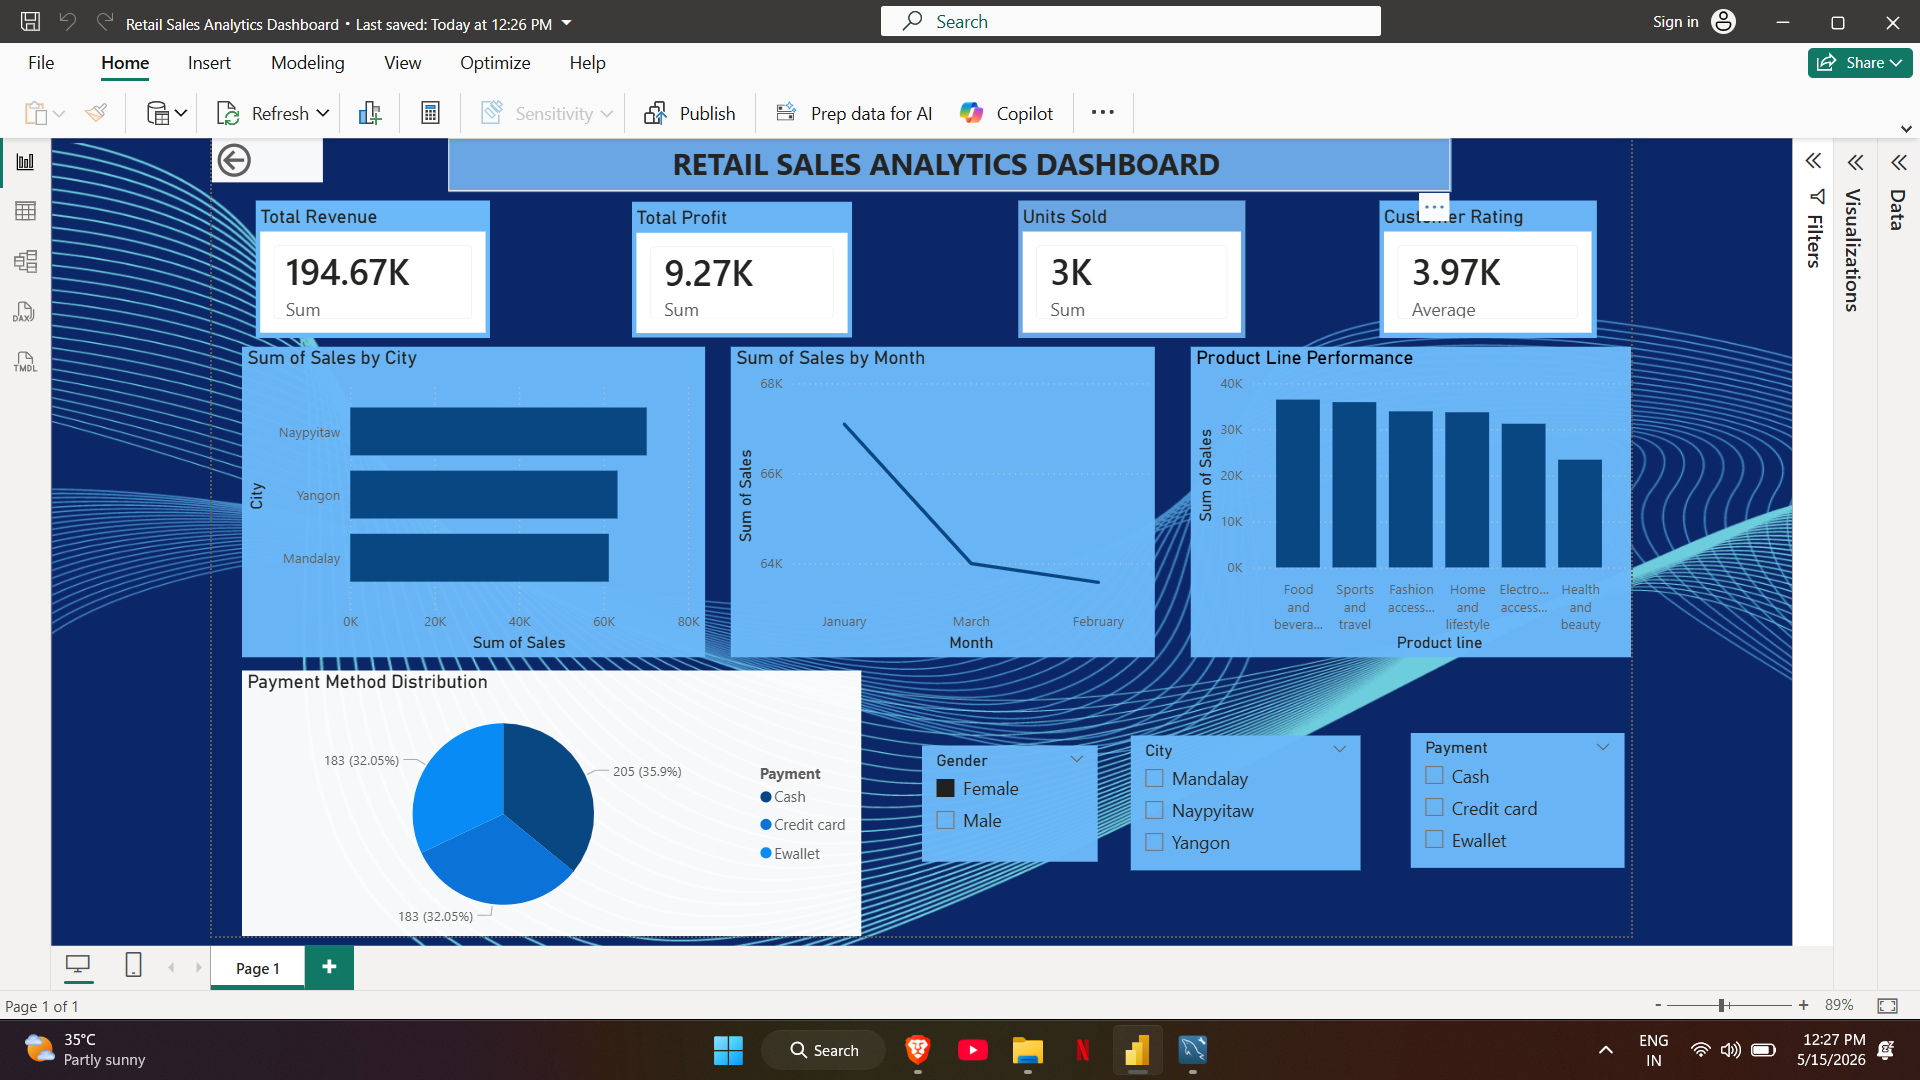

Layout of this report page (visuals, bound fields, positions):
{"tool":"powerbi","page":{"name":"Page 1","canvas":[1280,720],"ordinal":0},"visuals":[{"type":"cardVisual","title":"Total Revenue","fields":{"Data":["Sum(clean_sales.Sales)"]},"box":[40,56.2,211.2,123.8],"z":0},{"type":"actionButton","box":[0,0,100,40],"z":1000},{"type":"clusteredBarChart","fields":{"Category":["clean_sales.City"],"Y":["Sum(clean_sales.Sales)"]},"box":[27.5,188.8,417.5,280],"z":2000},{"type":"clusteredColumnChart","title":"Product Line Performance","fields":{"Category":["clean_sales.Product line"],"Y":["Sum(clean_sales.Sales)"]},"box":[882.5,188.8,397.5,280],"z":3000},{"type":"pieChart","title":"Payment Method Distribution","fields":{"Category":["clean_sales.Payment"],"Y":["CountNonNull(clean_sales.Payment)"]},"box":[27.5,480,558.8,240],"z":4000},{"type":"lineChart","fields":{"Category":["clean_sales.Month"],"Y":["Sum(clean_sales.Sales)"]},"box":[467.5,188.8,382.5,280],"z":5000},{"type":"slicer","fields":{"Values":["clean_sales.City"]},"box":[828.8,538.8,207.5,121.2],"z":6000},{"type":"slicer","fields":{"Values":["clean_sales.Gender"]},"box":[640,547.5,158.8,105],"z":7000},{"type":"slicer","fields":{"Values":["clean_sales.Payment"]},"box":[1081.2,536.2,192.5,121.2],"z":8000},{"type":"cardVisual","title":"Total Profit","fields":{"Data":["Sum(clean_sales.gross income)"]},"box":[378.8,57.5,198.8,122.5],"z":9000},{"type":"cardVisual","title":"Customer Rating","fields":{"Data":["Sum(clean_sales.Rating)"]},"box":[1052.5,56.2,196.2,123.8],"z":10000},{"type":"cardVisual","title":"Units Sold","fields":{"Data":["Sum(clean_sales.Quantity)"]},"box":[727.5,56.2,205,123.8],"z":11000},{"type":"textbox","box":[212.5,0,905,48.8],"z":12000}]}

Visuals, with their boxes on the page's 1280x720 design canvas (x1, y1, x2, y2). These are canvas units, not pixel positions in the 1920x1080 screenshot, which may show the page scaled, cropped or inside an application window:
"Total Revenue" cardVisual: 40,56,251,180
actionButton: 0,0,100,40
clusteredBarChart - clean_sales.City x Sum(clean_sales.Sales): 28,189,445,469
"Product Line Performance" clusteredColumnChart: 882,189,1280,469
"Payment Method Distribution" pieChart: 28,480,586,720
lineChart - clean_sales.Month x Sum(clean_sales.Sales): 468,189,850,469
slicer - clean_sales.City: 829,539,1036,660
slicer - clean_sales.Gender: 640,548,799,652
slicer - clean_sales.Payment: 1081,536,1274,657
"Total Profit" cardVisual: 379,58,578,180
"Customer Rating" cardVisual: 1052,56,1249,180
"Units Sold" cardVisual: 728,56,932,180
textbox: 212,0,1118,49
